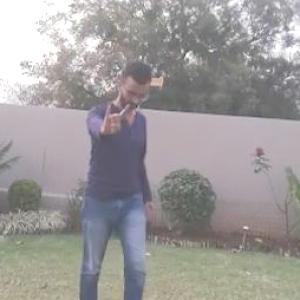takeoff-hand: (93, 97, 131, 140)
